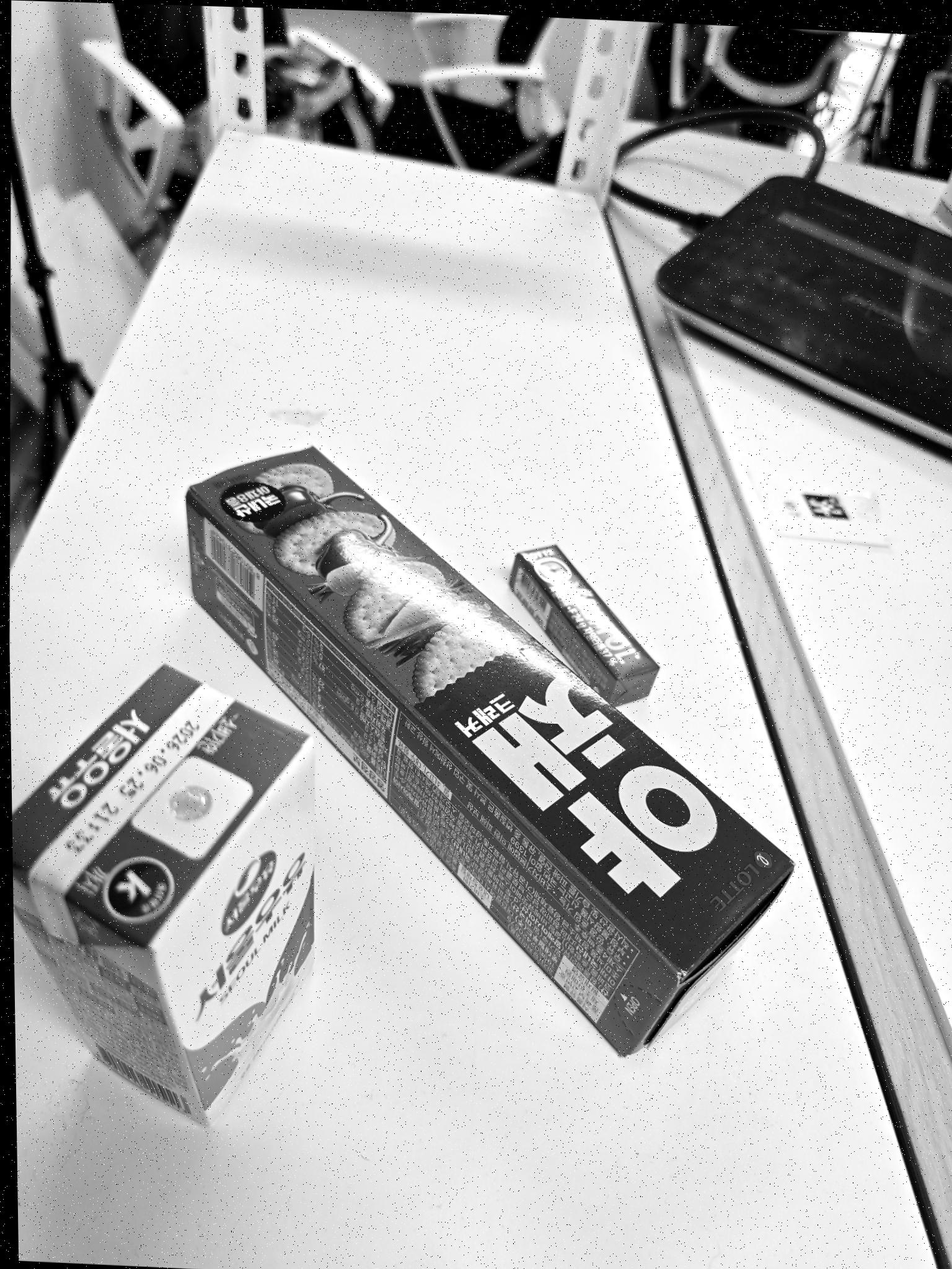cracker_vege: (186, 448, 793, 1055)
gum_green: (510, 545, 659, 704)
milk_green: (12, 666, 315, 1124)
